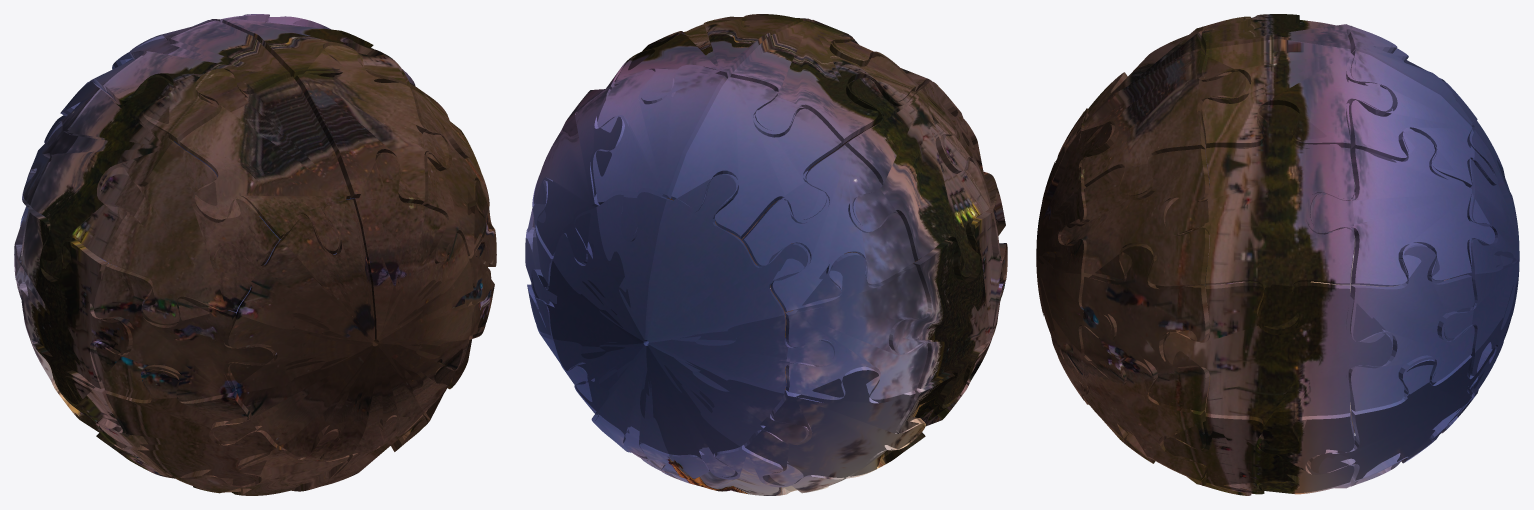
The model's file is easy-puzzle-v31.fbx.
3 views of the same model, side by side, from view 1: azimuth 30°, elevation 25°; view 2: azimuth 150°, elevation 25°; view 3: azimuth 270°, elevation 25° (orthographic).
Parts seen in each view (by area): view 1: Puzzle.001, Puzzle.005, Puzzle.025, Puzzle.023, Puzzle.026, Puzzle.004, Puzzle.016, Puzzle.006, Puzzle.027, Puzzle.024, Puzzle.003, Puzzle.028 (+8 smaller); view 2: Puzzle.002, Puzzle.023, Puzzle.008, Puzzle.009, Puzzle.007, Puzzle.010, Puzzle.016, Puzzle.006, Puzzle.032, Puzzle.015, Puzzle.003, Puzzle.011 (+8 smaller); view 3: Puzzle.022, Puzzle.021, Puzzle.015, Puzzle.024, Puzzle.003, Puzzle.031, Puzzle.014, Puzzle.020, Puzzle.004, Puzzle.001, Puzzle.002, Puzzle.032 (+6 smaller).
Boxes of the visible parts, <box> form: Puzzle.001: <box>213,153,489,459</box>; Puzzle.005: <box>179,71,350,254</box>; Puzzle.025: <box>100,145,279,324</box>; Puzzle.023: <box>31,77,177,279</box>; Puzzle.026: <box>93,263,275,400</box>; Puzzle.004: <box>294,45,448,204</box>; Puzzle.016: <box>15,210,132,404</box>; Puzzle.006: <box>105,20,290,144</box>; Puzzle.027: <box>99,369,277,485</box>; Puzzle.024: <box>411,89,488,264</box>; Puzzle.003: <box>222,14,407,85</box>; Puzzle.028: <box>178,429,357,495</box>; Puzzle.002: <box>532,174,834,477</box>; Puzzle.023: <box>843,77,990,278</box>; Puzzle.008: <box>742,145,914,312</box>; Puzzle.009: <box>785,252,927,399</box>; Puzzle.007: <box>671,77,842,239</box>; Puzzle.010: <box>744,366,922,485</box>; Puzzle.016: <box>889,211,1006,404</box>; Puzzle.006: <box>730,21,916,144</box>; Puzzle.032: <box>593,68,727,235</box>; Puzzle.015: <box>533,89,624,264</box>; Puzzle.003: <box>614,14,799,104</box>; Puzzle.011: <box>664,445,843,495</box>; Puzzle.022: <box>1163,105,1354,329</box>; Puzzle.021: <box>1164,282,1392,450</box>; Puzzle.015: <box>1310,131,1495,286</box>; Puzzle.024: <box>1060,148,1209,286</box>; Puzzle.003: <box>1201,38,1392,148</box>; Puzzle.031: <box>1081,244,1209,411</box>; Puzzle.014: <box>1348,244,1474,411</box>; Puzzle.020: <box>1163,411,1354,493</box>; Puzzle.004: <box>1081,50,1250,195</box>; Puzzle.001: <box>1036,112,1114,400</box>; Puzzle.002: <box>1444,82,1519,423</box>; Puzzle.032: <box>1349,50,1494,187</box>.
Bounding box in the file's own units: 6.91 × 6.94 × 6.93.
